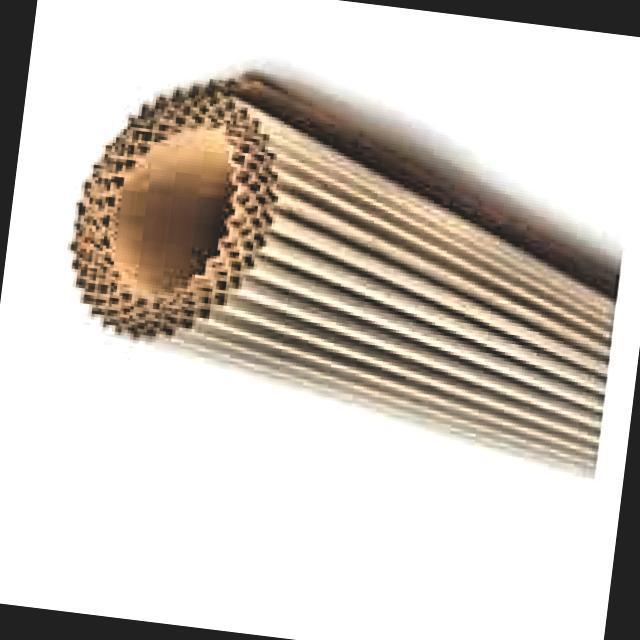cardboard: (43, 57, 638, 484)
